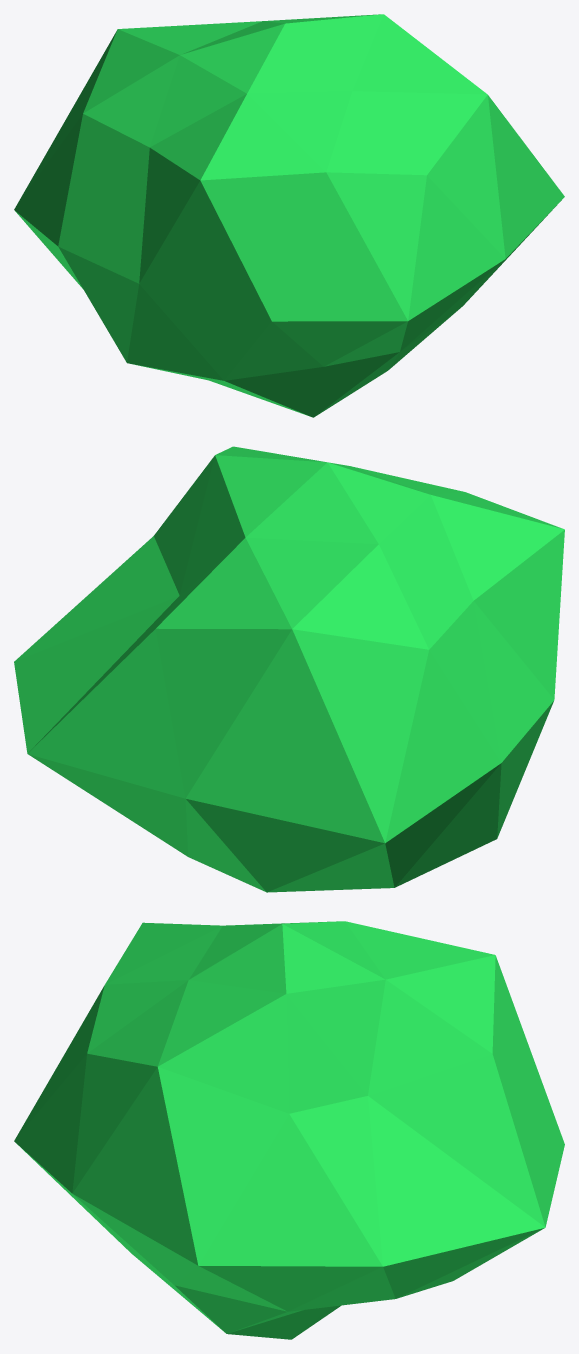
Rendered from Bush.fbx.
3 views of the same model, one above another, from view 1: azimuth 30°, elevation 25°; view 2: azimuth 150°, elevation 25°; view 3: azimuth 270°, elevation 25° (orthographic). The views are drawn at different scales.
Visible parts, largest first — view 1: Icosphere; view 2: Icosphere; view 3: Icosphere.
Part boxes in pixels (x1=…): Icosphere: x1=14, y1=14, x2=564, y2=417; Icosphere: x1=14, y1=446, x2=564, y2=892; Icosphere: x1=14, y1=921, x2=564, y2=1339.
Size of the model in its own units: 1519 by 1287 by 1568.
